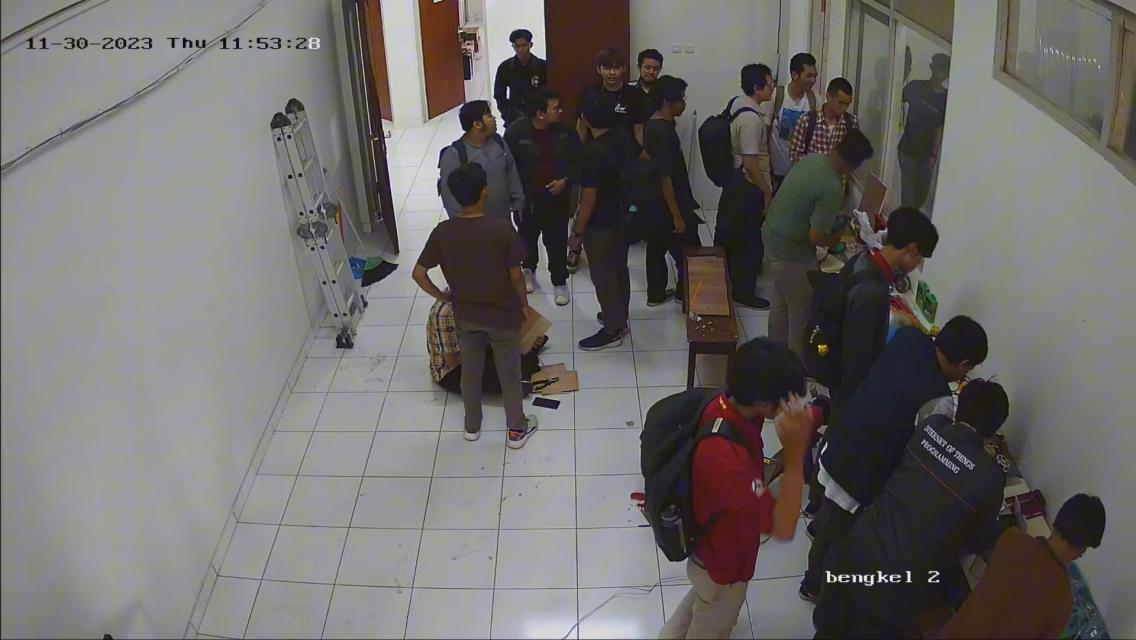Crowd: (397, 13, 913, 440)
